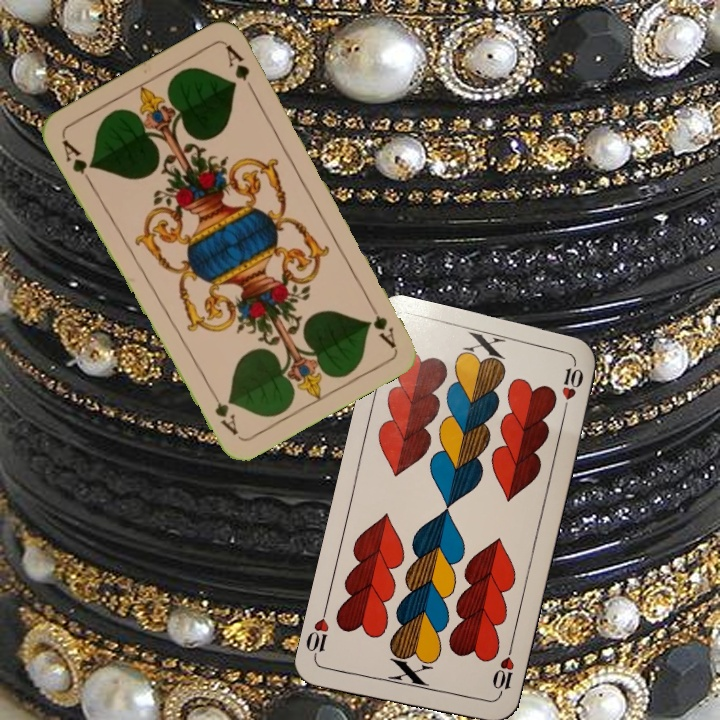GA: (58, 135, 97, 188), (363, 295, 399, 350)
H10: (488, 643, 517, 702)
